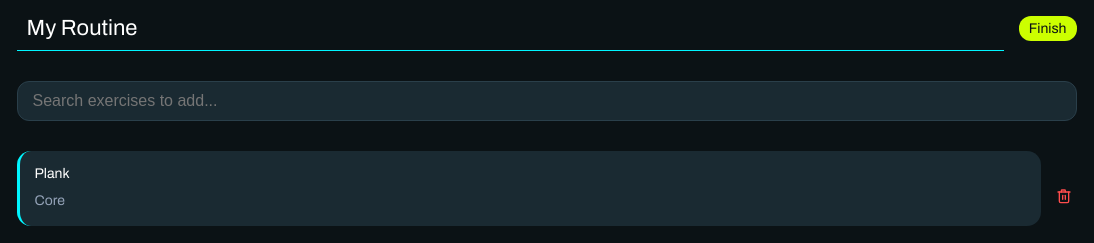
Test: EditRoutinePage › does not show already-added exercises in search results
The image size is (1094, 243).
Type "plank" into the search field with placeholder "Search exercises to add...".
click(546, 101); type("plank")  # box [16,81,1076,121]
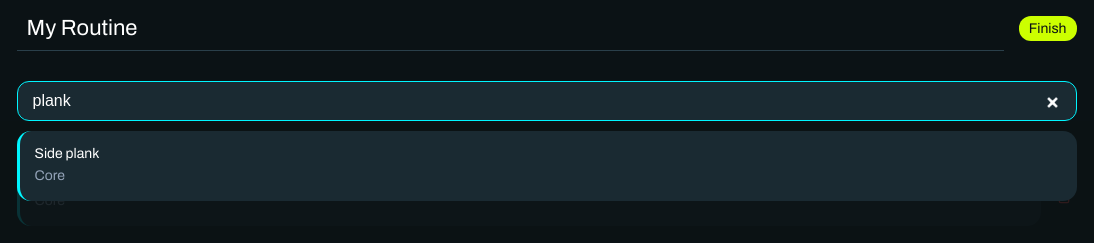
Now the text "Side plank" is shown, box [34,146,99,161]
